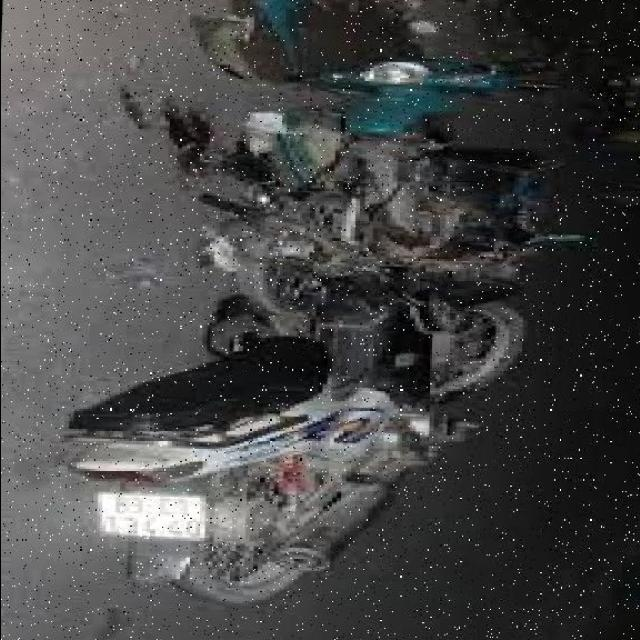accident: (33, 0, 618, 634)
